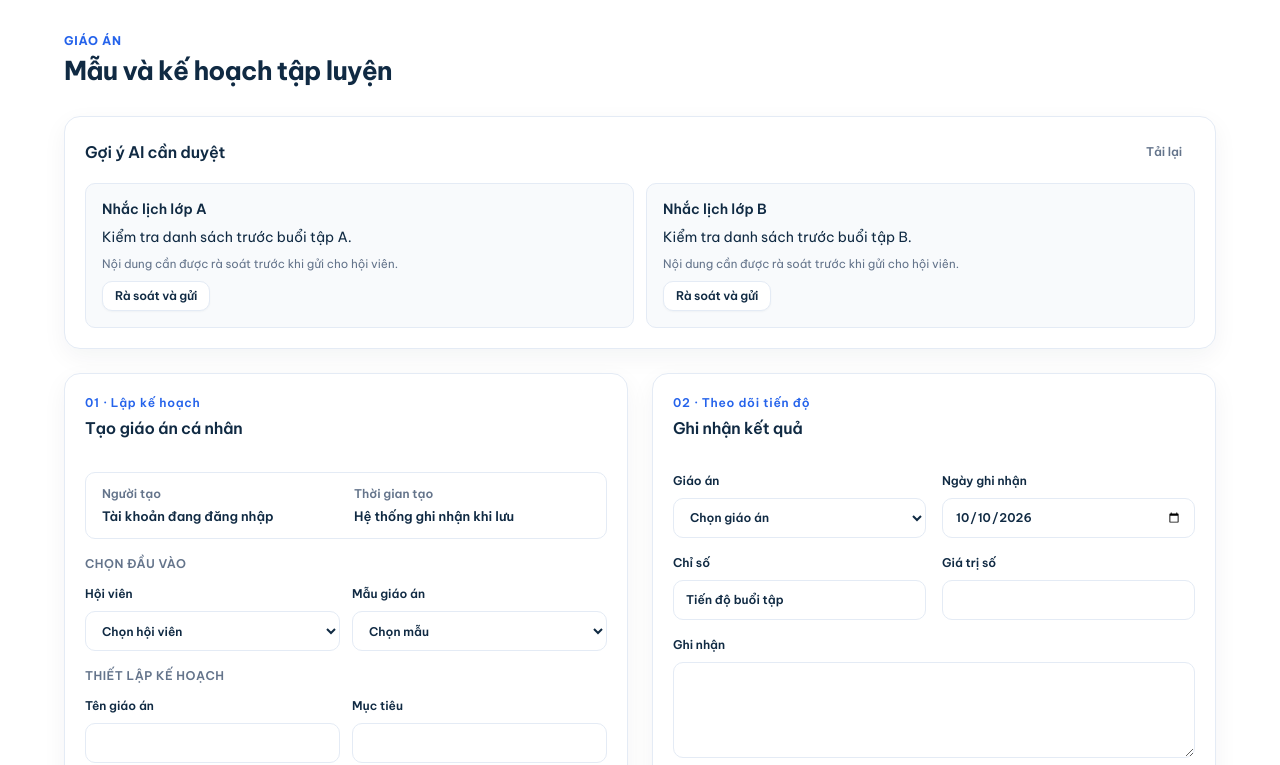
Scenario: TrainingPage › keeps each AI suggestion and its review action together in the responsive grid
Expected: the number of elements with class "ai-review__item" is 2, [85,183,634,328]; [646,183,1195,328]
Expected: the element with class "ai-review__item" shows "Kiểm tra danh sách trước buổi tập A.", [102,228,352,246]
Click the button "Rà soát và gửi" below "Kiểm tra danh sách trước buổi tập A." at (156, 296), box [102,281,210,311]
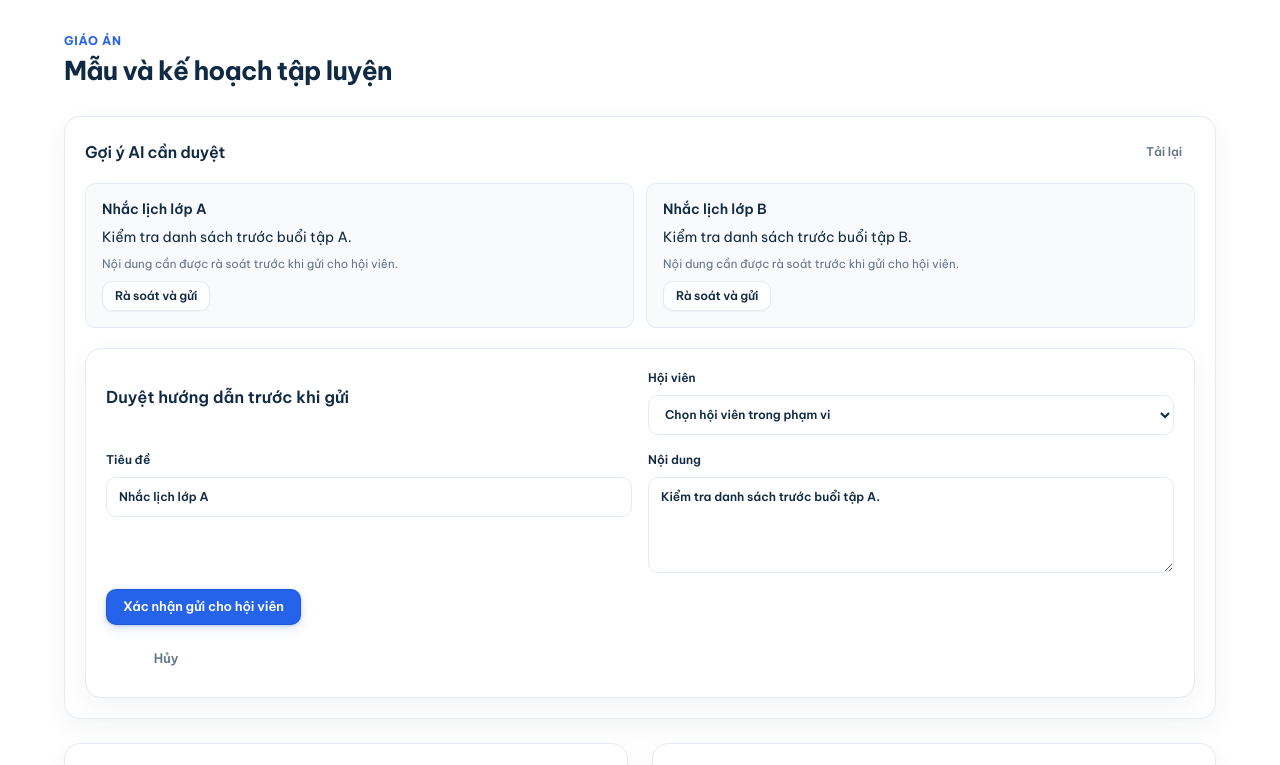
Expected: the heading "Duyệt hướng dẫn trước khi gửi" is shown, [106,387,349,407]
Expected: the field labelled "Tiêu đề" holds "Nhắc lịch lớp A", [106,477,632,517]
